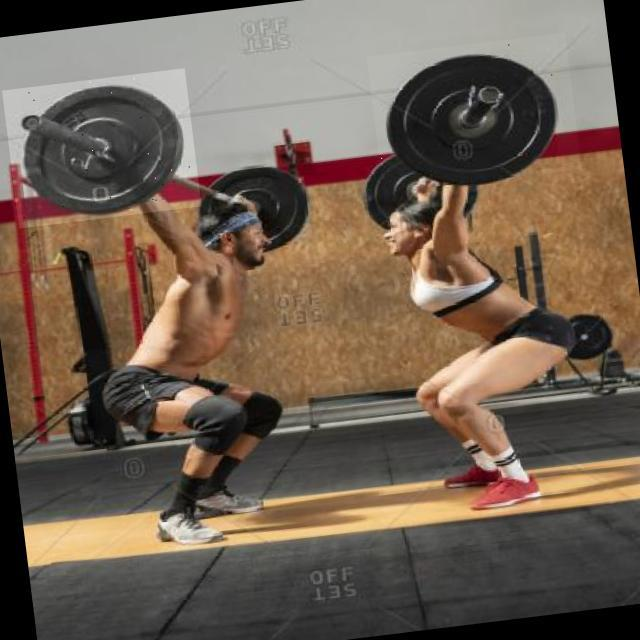barbell: (368, 33, 584, 203), (3, 69, 202, 229)
